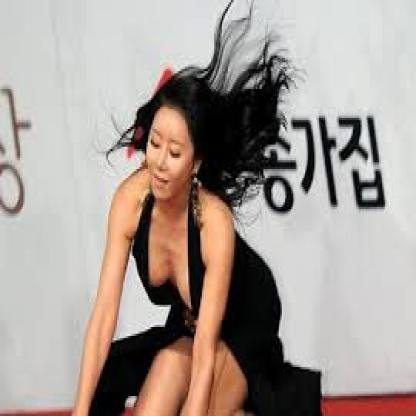Fall_Down: (69, 84, 296, 414)
